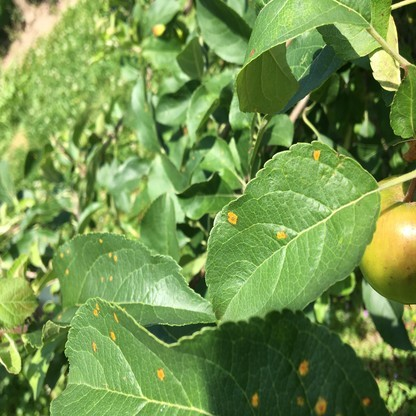frogeye: (251, 48, 255, 57)
rust: (314, 397, 326, 414), (228, 211, 238, 225), (299, 361, 308, 376), (297, 394, 305, 407), (109, 330, 117, 341), (93, 302, 100, 314), (108, 251, 117, 260), (156, 369, 164, 379), (253, 391, 258, 407), (276, 231, 287, 238), (363, 396, 371, 404), (314, 150, 320, 160), (113, 314, 119, 322), (92, 342, 96, 351), (64, 267, 69, 273), (100, 276, 103, 283), (98, 237, 102, 242), (60, 251, 64, 256), (109, 275, 113, 279), (67, 248, 70, 252), (58, 314, 61, 318)
